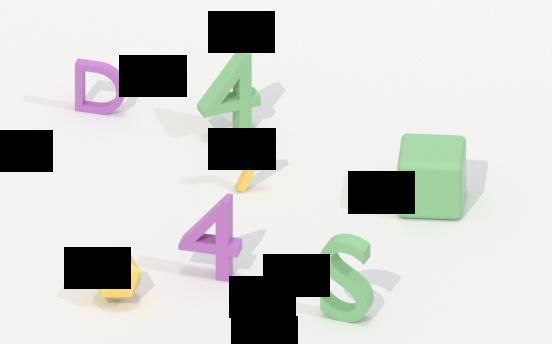4: (189, 45, 269, 136), (176, 191, 248, 279)
7: (226, 136, 274, 196)
d: (70, 55, 133, 118)
dagiac: (89, 251, 146, 302)
hop: (391, 129, 473, 222)
s: (316, 233, 379, 328)
